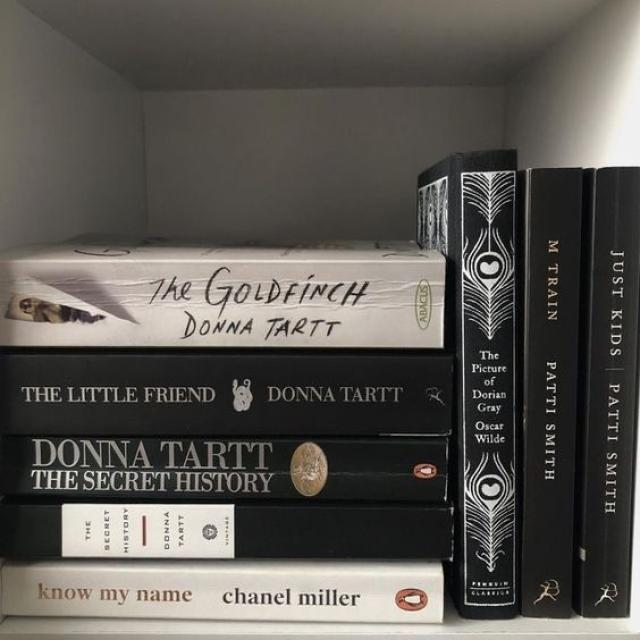book: (1, 260, 442, 348), (0, 354, 452, 436), (452, 154, 522, 616), (520, 168, 587, 617), (1, 436, 448, 503), (579, 168, 639, 617), (0, 563, 443, 623), (0, 502, 452, 559)
